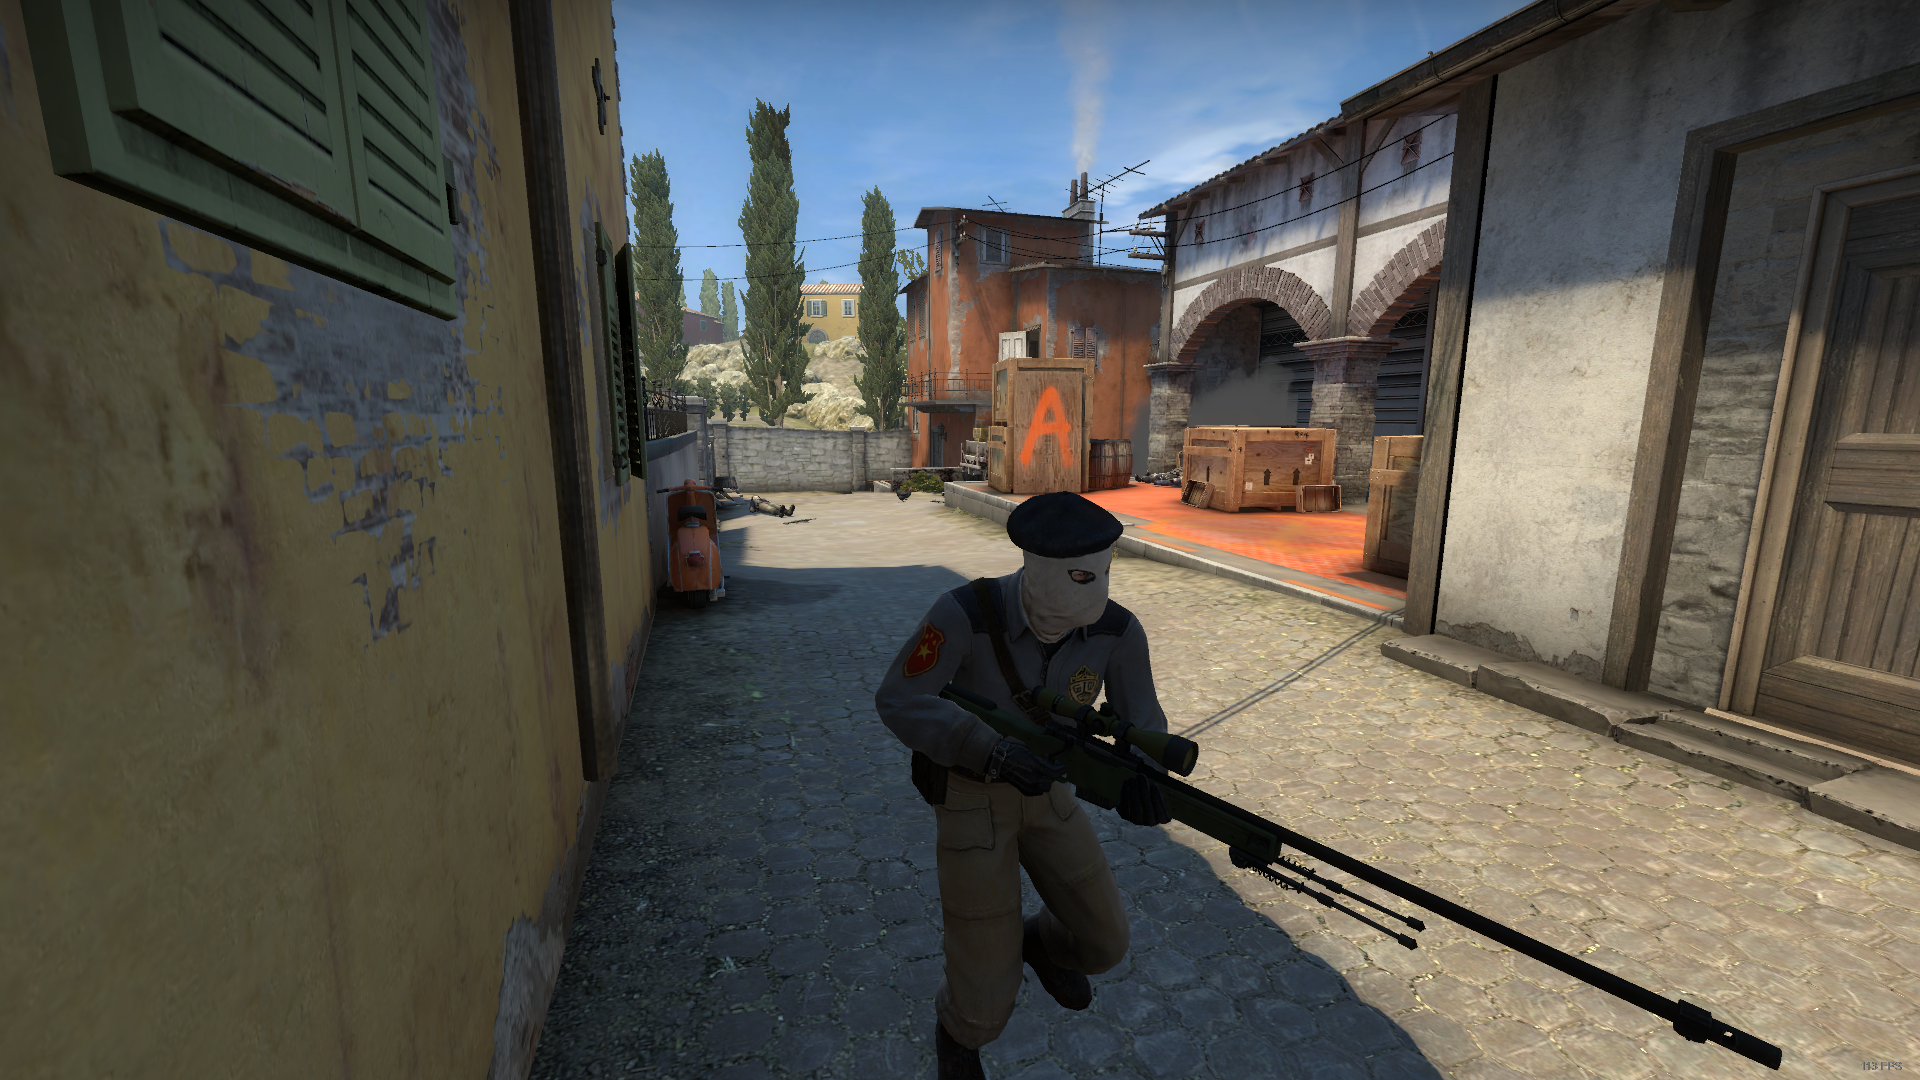t: (858, 495, 1192, 1080)
